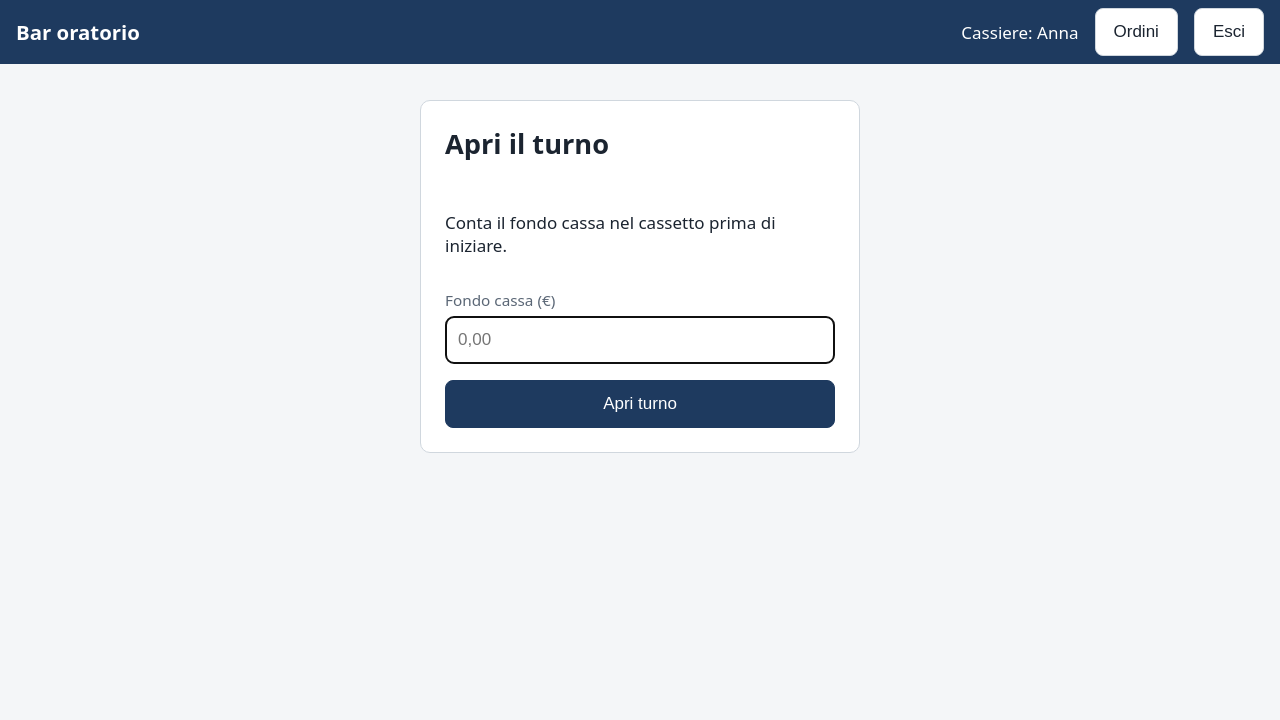
Test: RegisterPage › asks for the opening float when no shift is open
The image size is (1280, 720).
Type "50" into the field labelled "Fondo cassa (€)" at (640, 340), box 445,316 -> 835,364
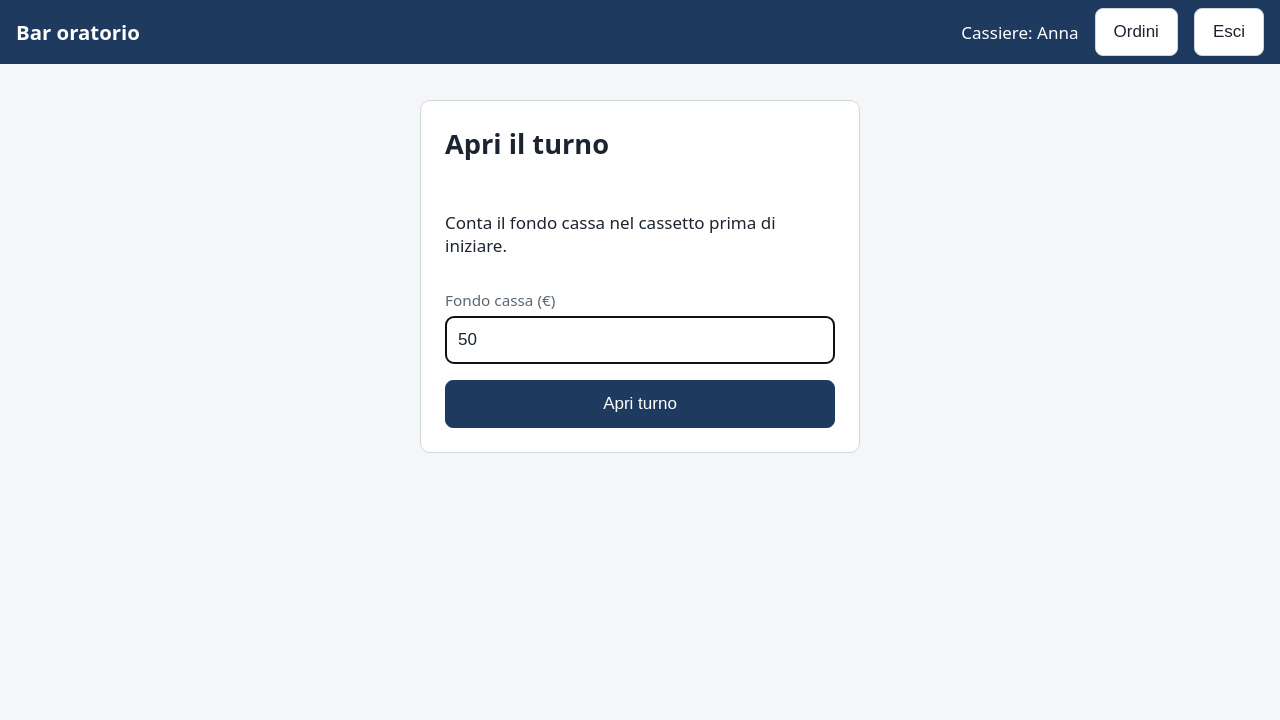
Click the button "Apri turno" at (640, 404), box 445,380 -> 835,428
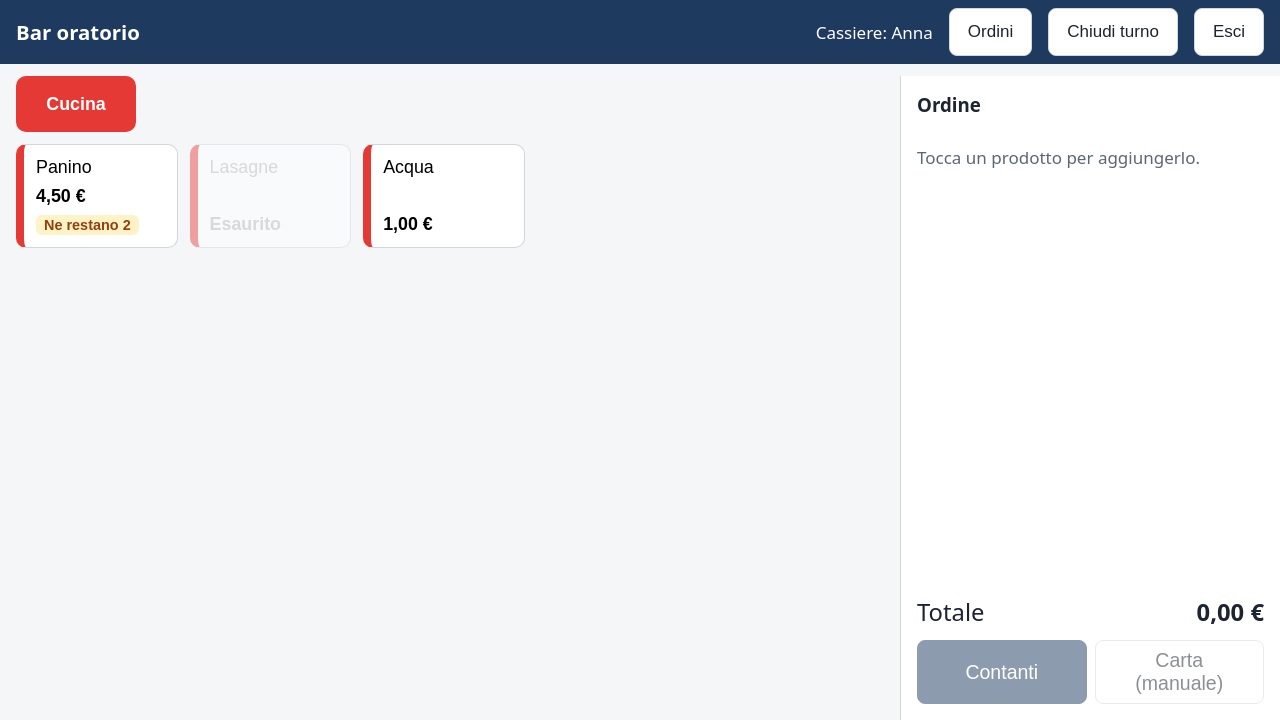
Result: the button "Panino 4,50 € Ne restano 2" is shown at 16,144 -> 178,248
